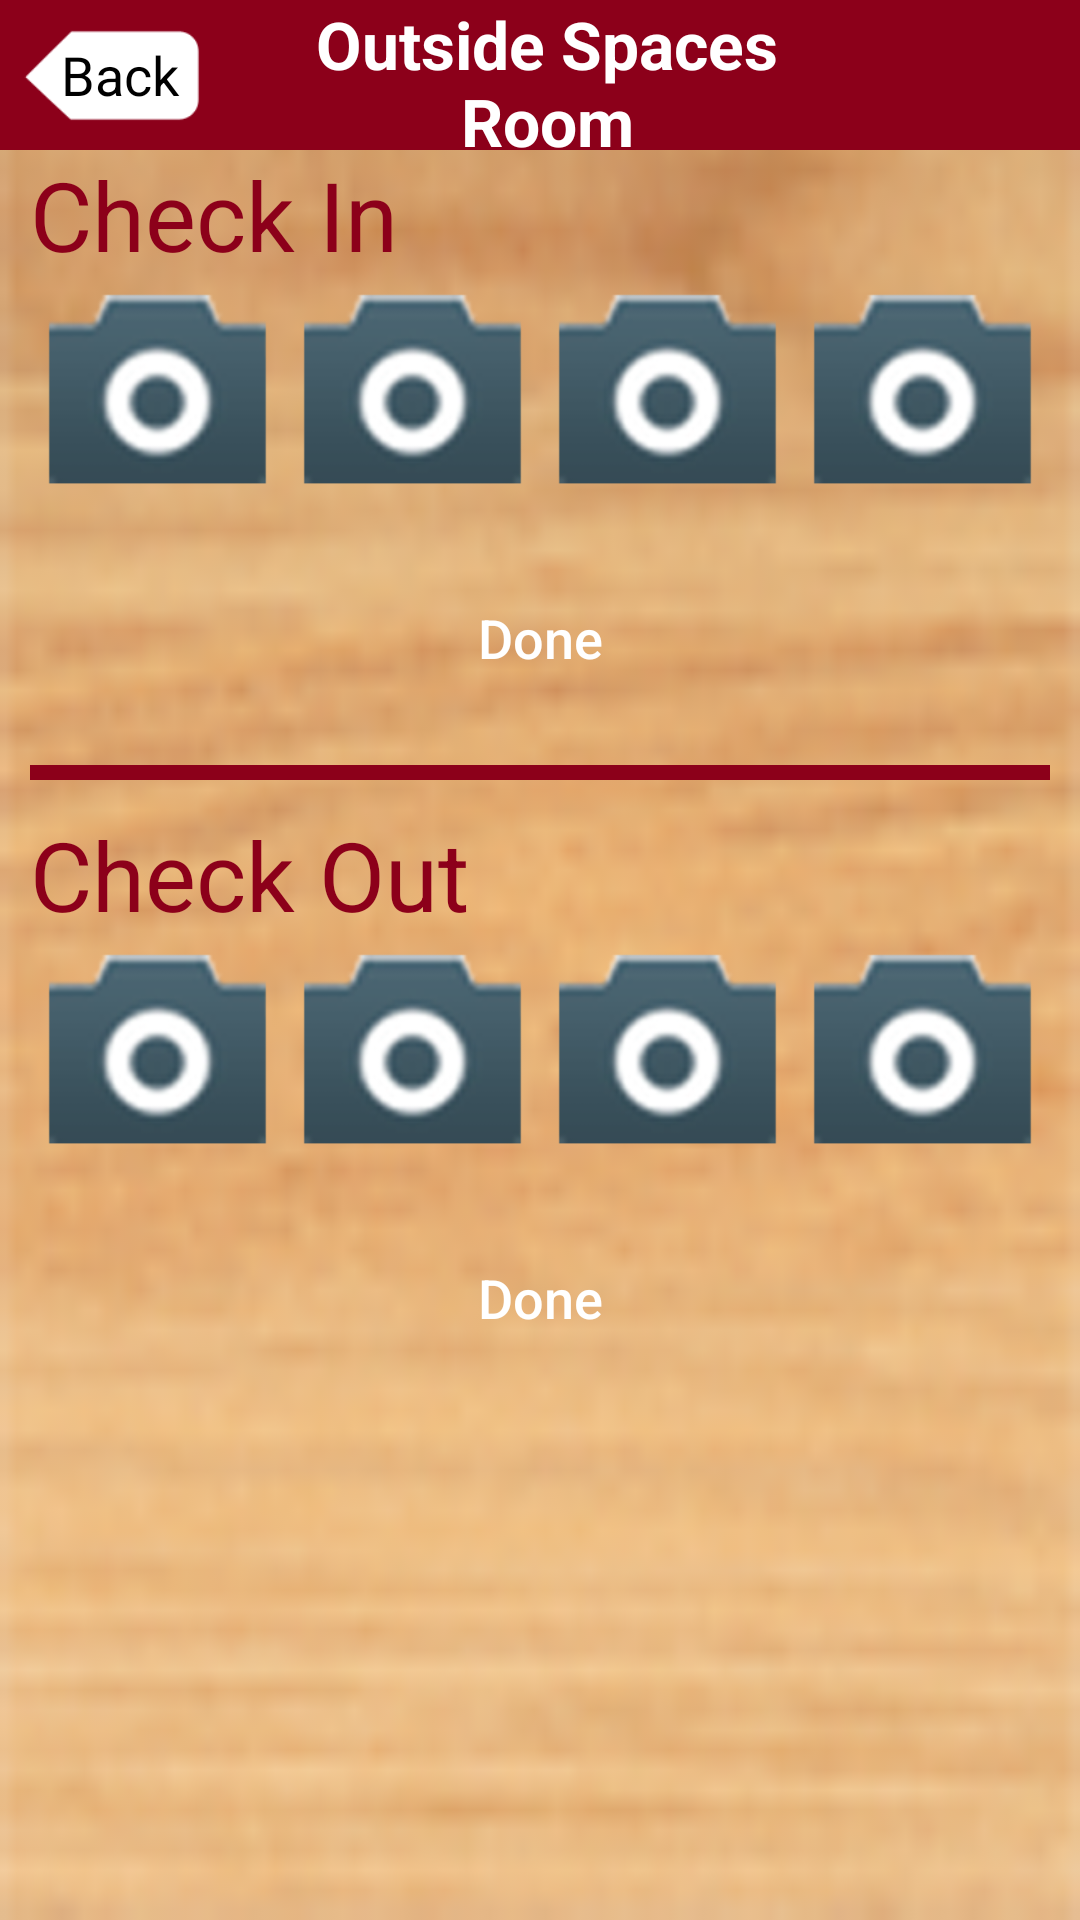

Where icons sit on this 1080w x 1920h app screen, as region(x1, y1, x2, y2):
camera: region(559, 270, 795, 484), region(795, 270, 1050, 484), region(48, 295, 266, 484), region(304, 295, 521, 484), region(559, 954, 776, 1144), region(49, 955, 266, 1144), region(304, 955, 521, 1144), region(814, 955, 1031, 1144)
